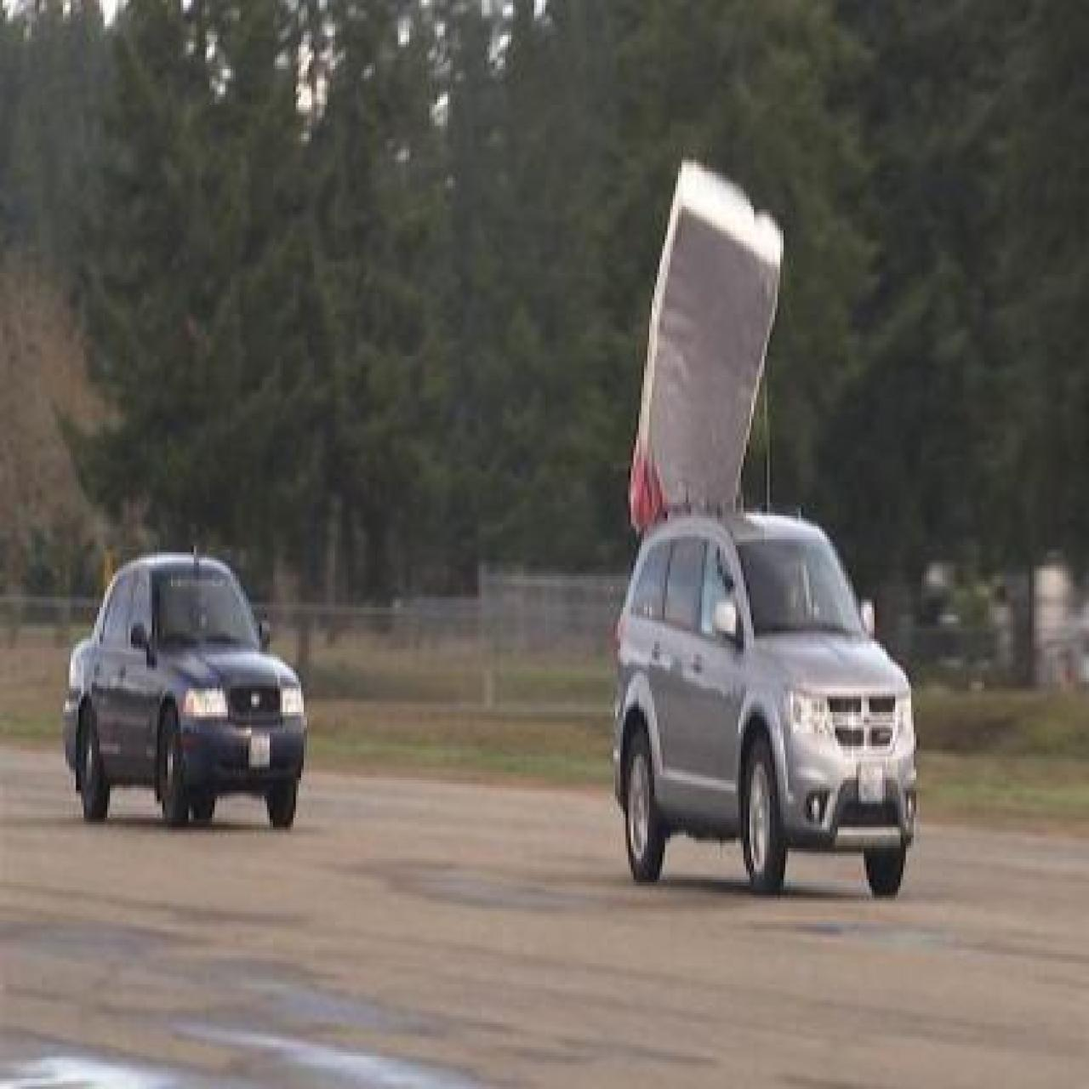bulk_waste: (629, 161, 783, 532)
vehicle: (613, 515, 917, 897), (62, 552, 306, 827)
